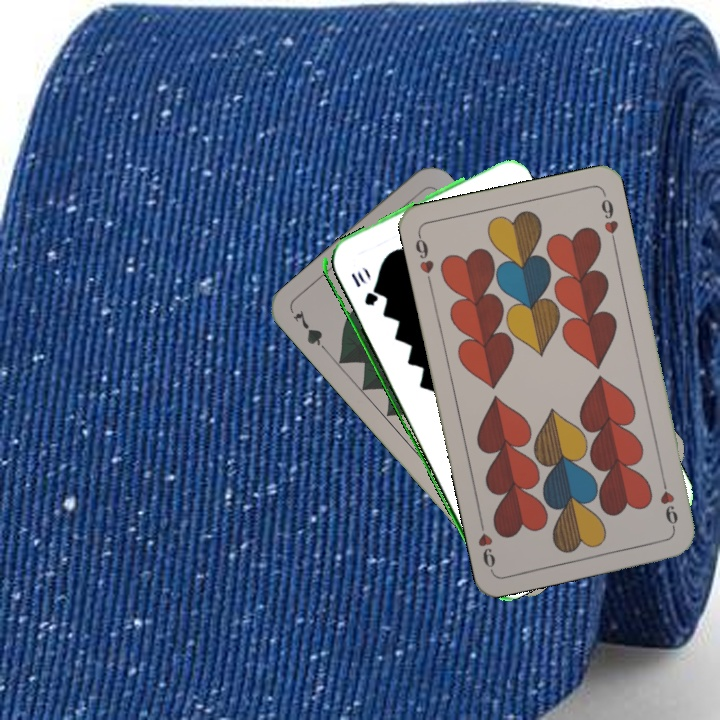G10: (347, 269, 378, 309)
G7: (289, 305, 333, 358)
H9: (411, 229, 437, 288), (656, 474, 681, 532)
